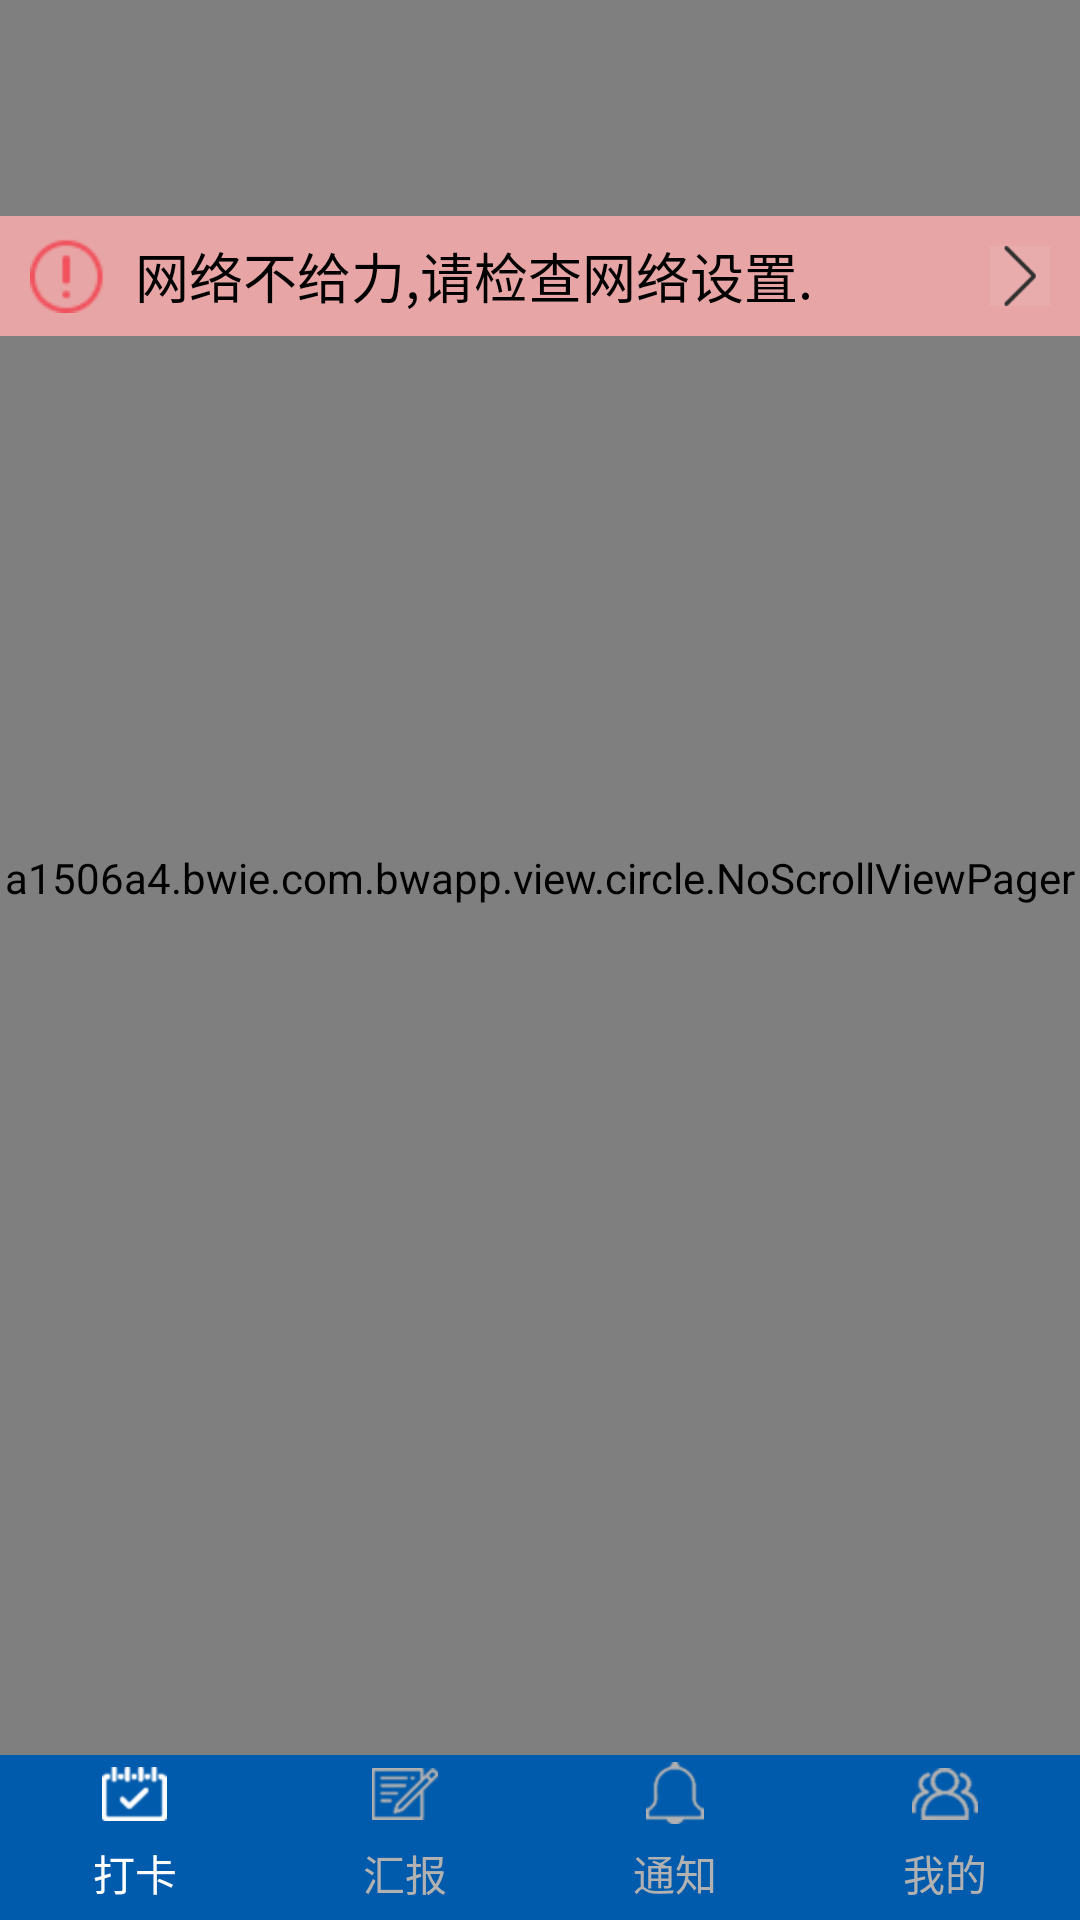

Where icons sit on this 1080 x 1920 app screen, as (left=x1, top=y1, right=x2, bottom=y2):
jinggao: (left=30, top=240, right=103, bottom=313)
